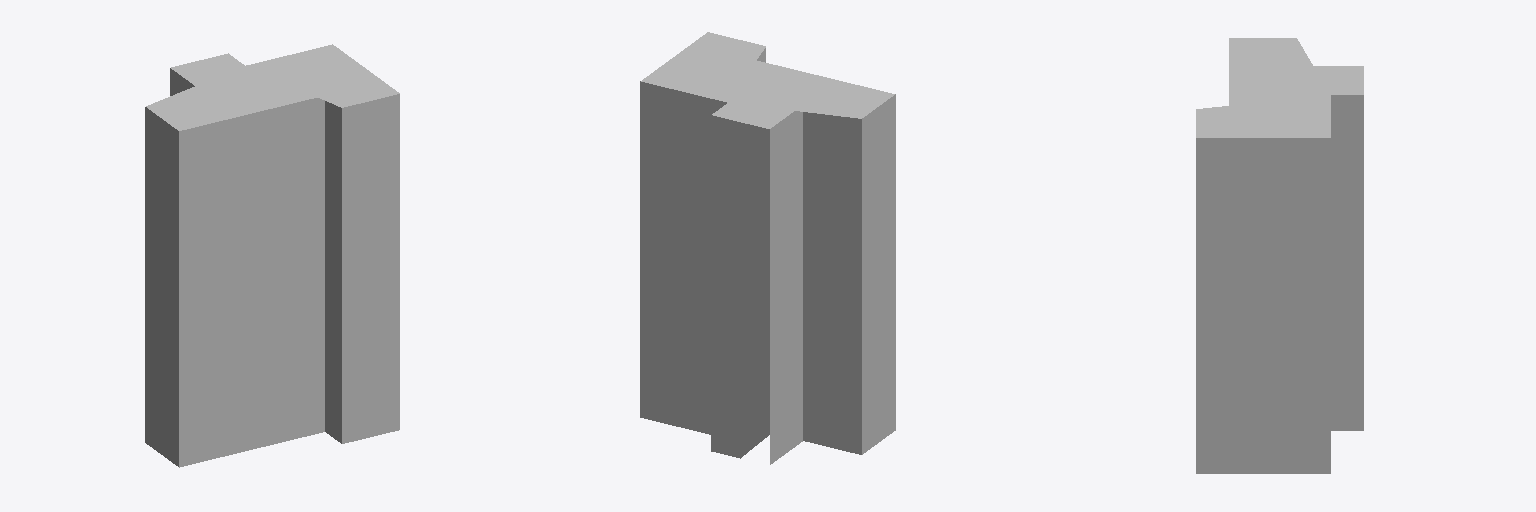
File: Bulding #6 Hitbox.obj
The picture shows the model from 3 angles: view 1: azimuth 30°, elevation 25°; view 2: azimuth 150°, elevation 25°; view 3: azimuth 270°, elevation 25°; orthographic projection.
Parts seen in each view (by area): view 1: Base.003; view 2: Base.003; view 3: Base.003.
Boxes of the visible parts, x1,y1,x2,y2 form: Base.003: [145, 44, 399, 467]; Base.003: [640, 32, 895, 464]; Base.003: [1196, 38, 1363, 473].
Size of the model in its own units: 7 by 11 by 5.